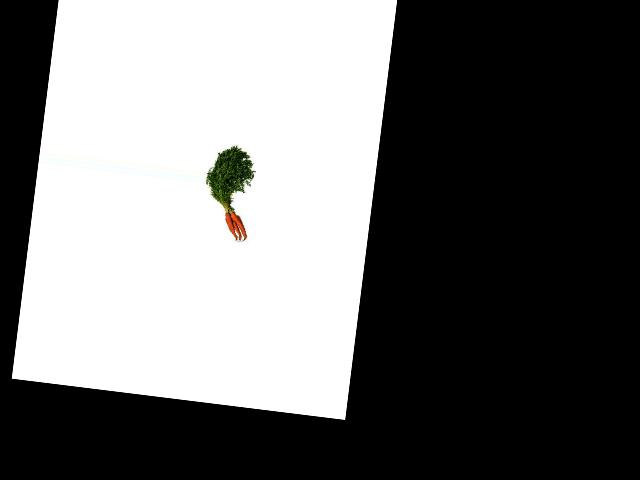carrot: (228, 210, 250, 237)
